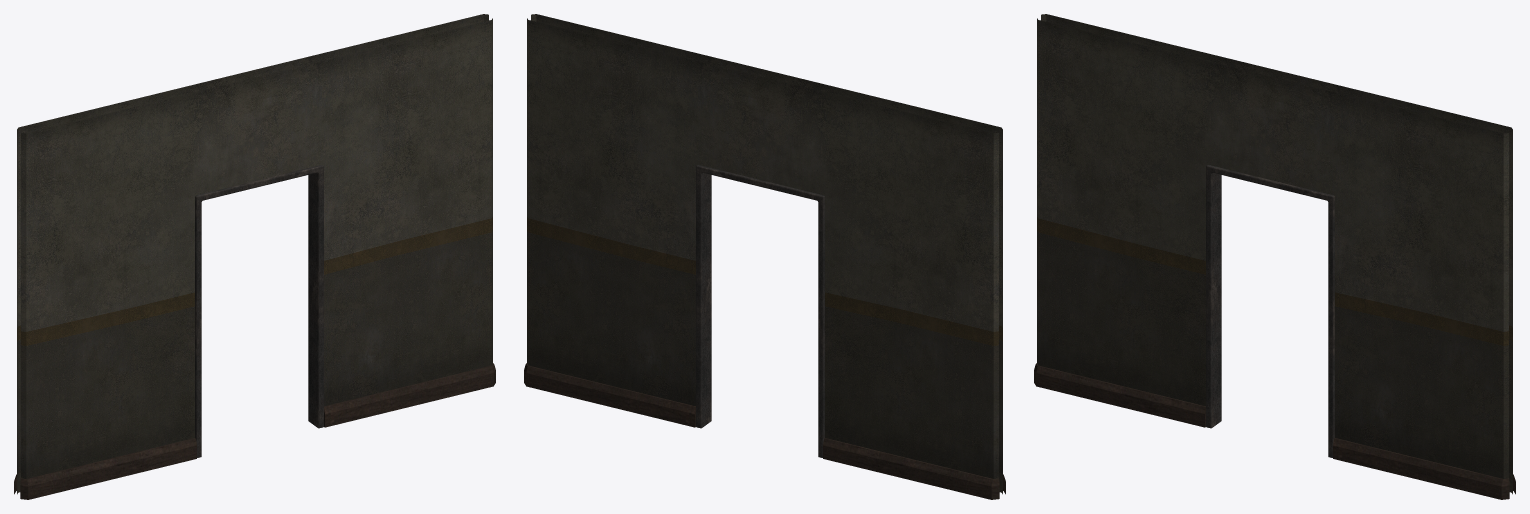
File: doorway_1.obj
3 views of the same model, side by side, from view 1: azimuth 30°, elevation 25°; view 2: azimuth 150°, elevation 25°; view 3: azimuth 330°, elevation 25° (orthographic).
Visible parts, largest first — view 1: doorway_1; view 2: doorway_1; view 3: doorway_1.
Part boxes in pixels (<box>): doorway_1: <box>14,14,495,499</box>; doorway_1: <box>524,14,1005,499</box>; doorway_1: <box>1034,14,1515,499</box>.
Size of the model in its own units: 4.09 by 3 by 0.18.
